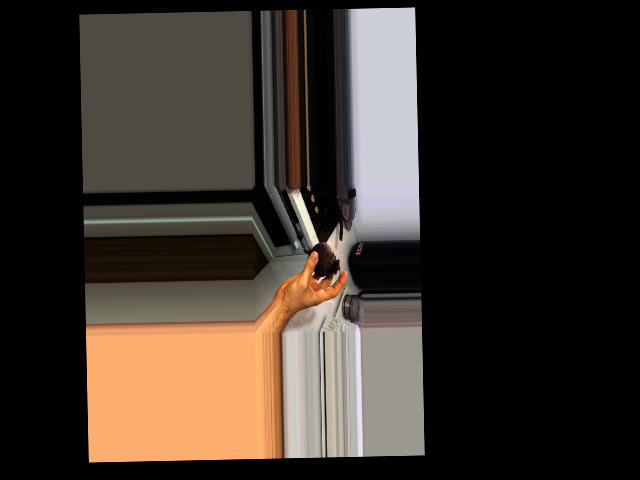beet: (302, 241, 340, 286)
